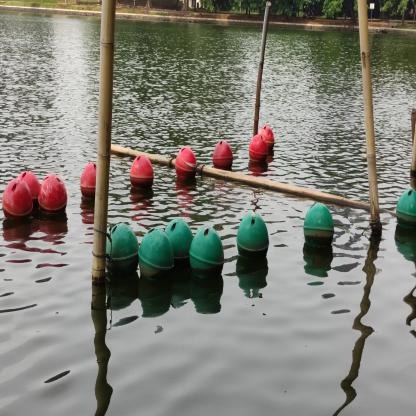green_buoy: (189, 226, 225, 284), (139, 227, 175, 283), (106, 219, 139, 278), (235, 211, 270, 264), (302, 201, 336, 250), (164, 218, 192, 272), (394, 186, 416, 234)
red_buoy: (37, 173, 68, 220), (2, 178, 33, 224), (129, 154, 155, 191), (17, 171, 41, 211), (174, 145, 198, 180), (212, 140, 234, 172), (80, 160, 97, 198), (248, 134, 269, 163), (258, 124, 275, 154)
